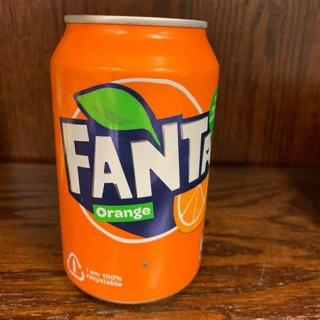Anorganik: (48, 7, 224, 311)
